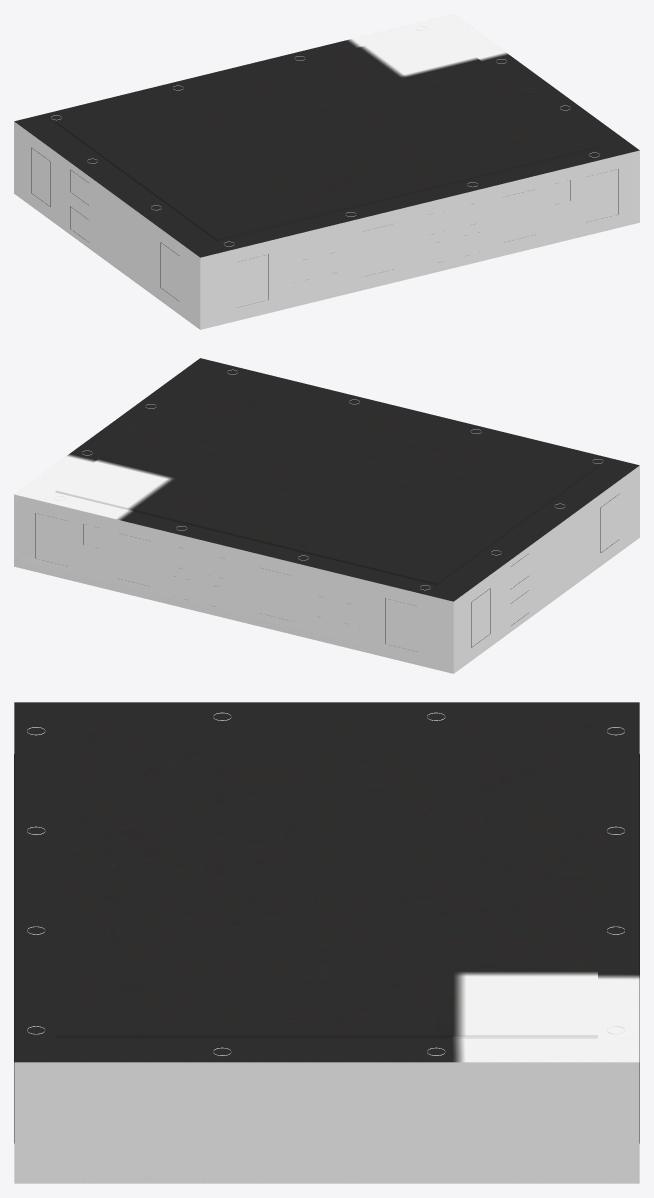
Rendered from gallery-room.glb.
The picture shows the model from 3 angles, top to bottom: view 1: azimuth 30°, elevation 25°; view 2: azimuth 150°, elevation 25°; view 3: azimuth 270°, elevation 25°; orthographic projection. The views are drawn at different scales.
Visible parts, largest first — view 1: Art_Room; view 2: Art_Room; view 3: Art_Room.
Boxes of the visible parts, left/top/right/bottom form: Art_Room: left=14, top=14, right=639, bottom=329; Art_Room: left=14, top=358, right=639, bottom=673; Art_Room: left=14, top=702, right=639, bottom=1183.
Size of the model in its own units: 27.64 by 4.46 by 20.29.
1 material, 1 textured.
